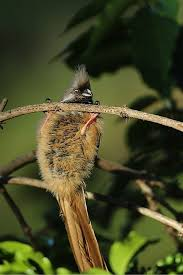target: (24, 63, 116, 272)
